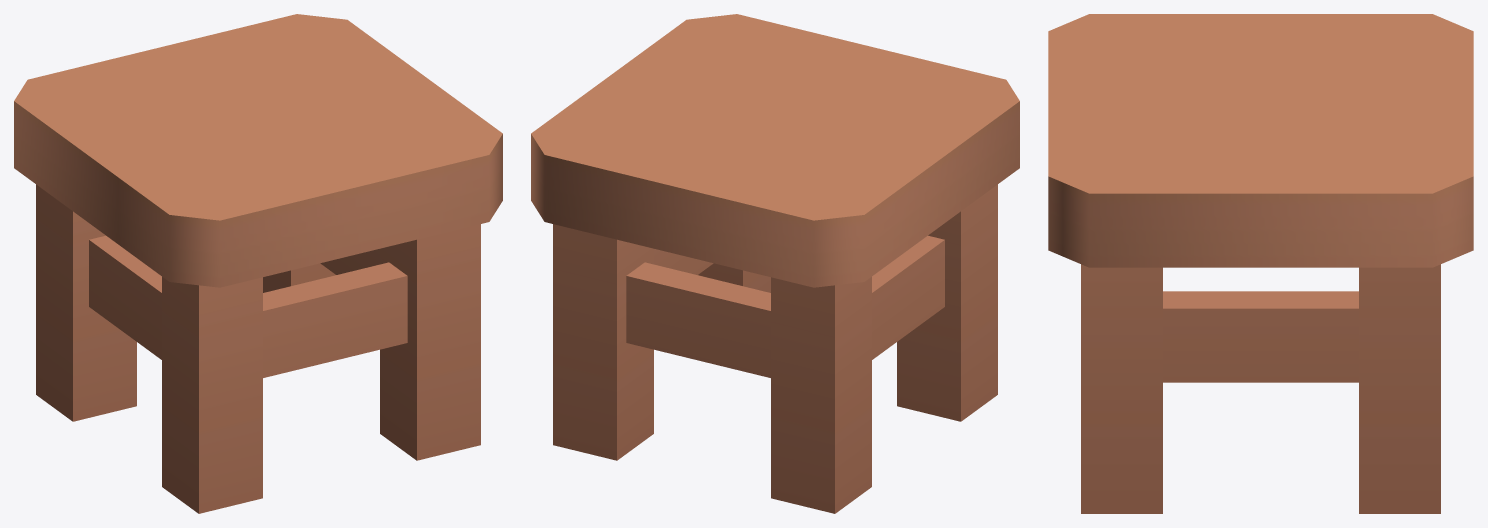
The model's file is stall-stool.glb.
The picture shows the model from 3 angles, left to right: view 1: azimuth 30°, elevation 25°; view 2: azimuth 150°, elevation 25°; view 3: azimuth 270°, elevation 25°; orthographic projection. The views are drawn at different scales.
Parts seen in each view (by area): view 1: stall-stool; view 2: stall-stool; view 3: stall-stool.
Boxes of the visible parts, box(x1,y1,x2,y2) form: stall-stool: box(14, 14, 502, 513); stall-stool: box(531, 14, 1019, 513); stall-stool: box(1048, 14, 1473, 513).
Size of the model in its own units: 0.26 by 0.2255 by 0.26.
1 material, 1 textured.
